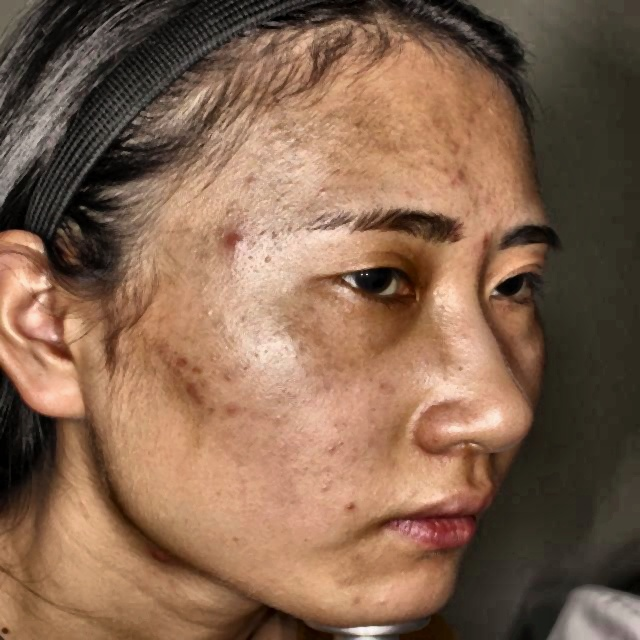comedone: (223, 218, 254, 257), (178, 379, 207, 411), (447, 165, 477, 194), (470, 223, 492, 253)
